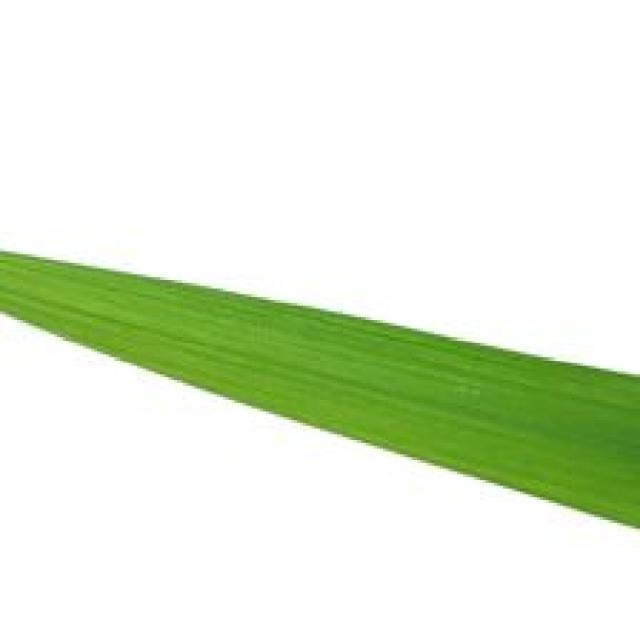Rice___Healthy_Rice_Plant: (0, 249, 637, 535)
